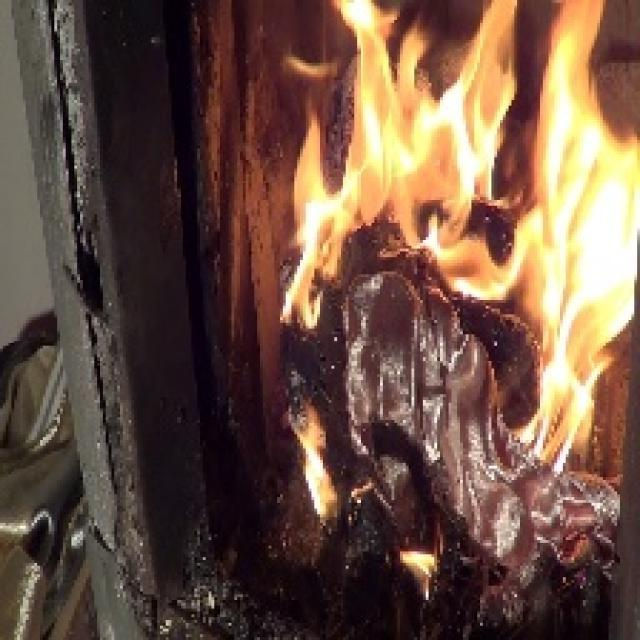Fire: (268, 0, 640, 221), (520, 226, 636, 457), (424, 220, 520, 304), (272, 218, 339, 330), (296, 408, 335, 522)
